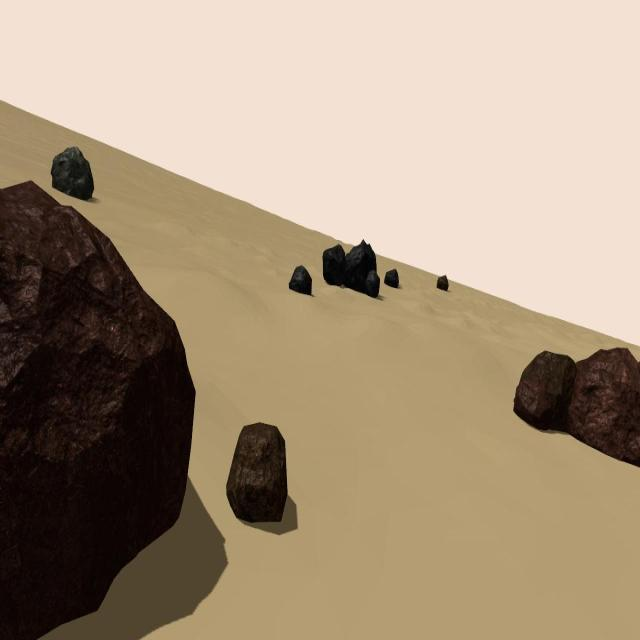rock: (0, 179, 196, 638), (568, 348, 640, 469), (226, 422, 288, 524), (513, 349, 575, 431), (51, 145, 95, 202), (344, 240, 377, 292), (322, 243, 345, 288), (289, 264, 313, 298), (363, 270, 380, 299), (384, 268, 399, 290), (436, 273, 449, 294)
